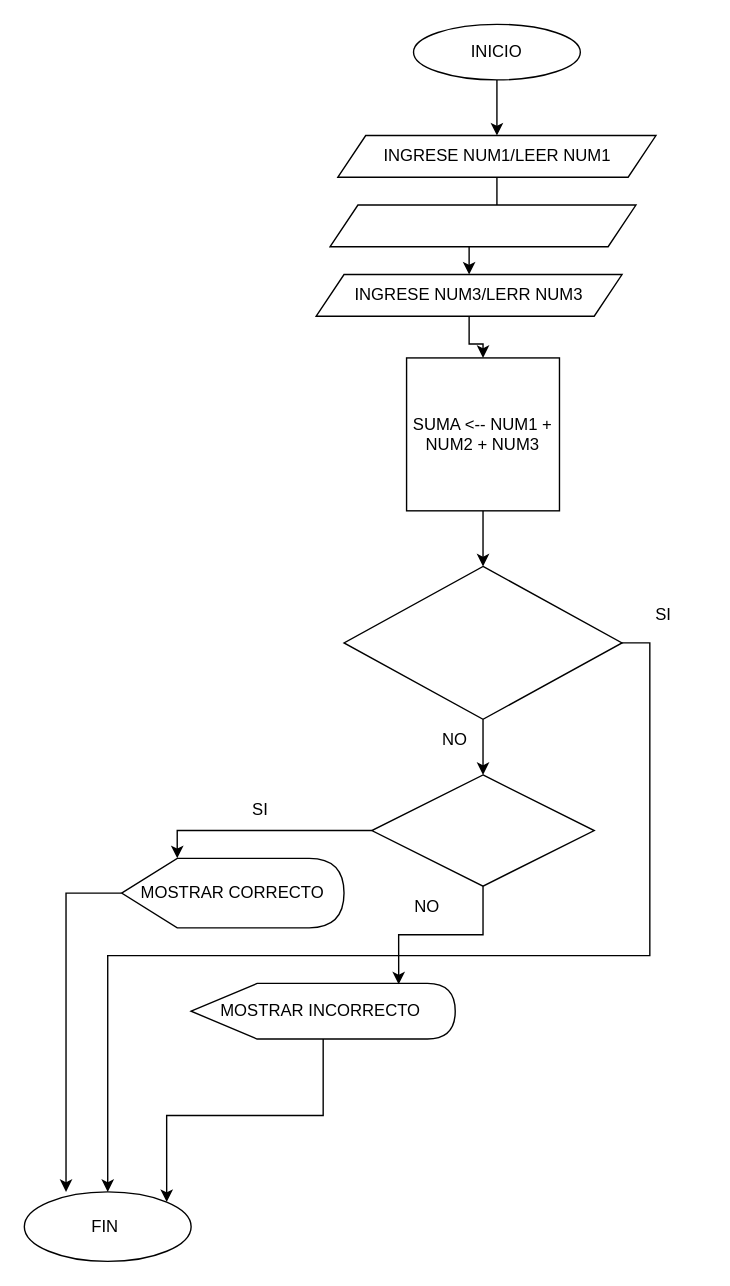
Image size: 730x1286. Some labels were removed from this diagram. Each missing label, with the box of its shape:
INGRESE NUM2/LEER NUM2: (329, 204, 636, 247)
NUM1 = 30 O NUM2=30 O NUM3=30: (343, 565, 622, 719)
SUMA =30: (370, 774, 594, 886)
